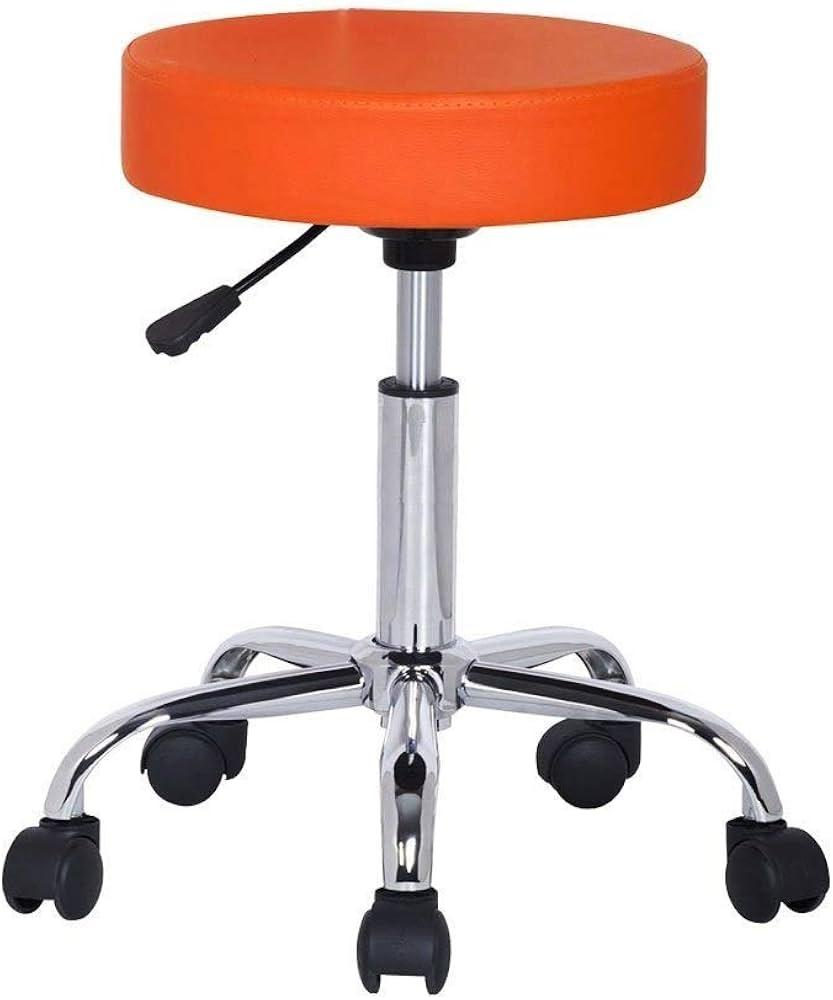stool: (2, 7, 828, 995)
